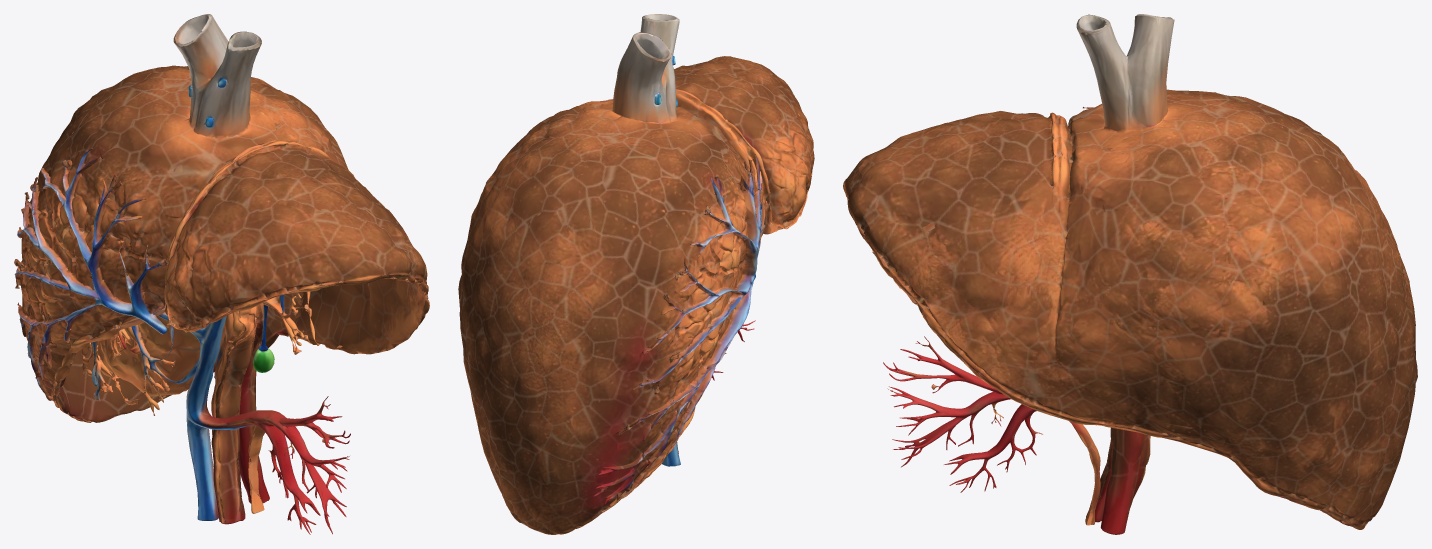
The model's file is liver-cirrhosis.glb.
3 renders of one model, left to right at view 1: azimuth 30°, elevation 25°; view 2: azimuth 150°, elevation 25°; view 3: azimuth 270°, elevation 25°, orthographic. The views are drawn at different scales.
Visible parts, largest first — view 1: model; view 2: model; view 3: model.
Boxes of the visible parts, bbox=[...] form: model: bbox=[14, 14, 429, 534]; model: bbox=[458, 14, 814, 534]; model: bbox=[843, 14, 1417, 534].
Size of the model in its own units: 1.08 by 1.84 by 1.9.
Materials: 1 (1 with a texture image).
